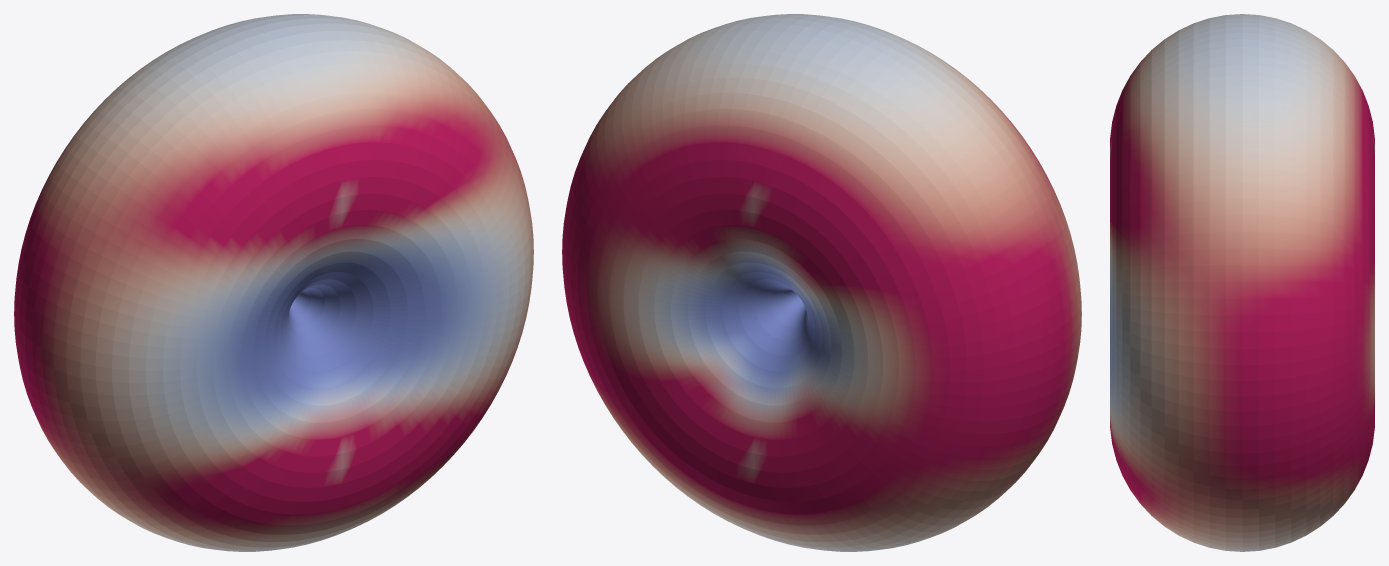
3 views of the same model, side by side, from view 1: azimuth 30°, elevation 25°; view 2: azimuth 150°, elevation 25°; view 3: azimuth 270°, elevation 25° (orthographic). The views are drawn at different scales.
Visible parts, largest first — view 1: world; view 2: world; view 3: world.
Boxes of the visible parts, bbox=[...] form: world: bbox=[14, 14, 533, 551]; world: bbox=[562, 14, 1081, 551]; world: bbox=[1110, 14, 1374, 551].
Size of the model in its own units: 19.73 by 19.73 by 9.71.
